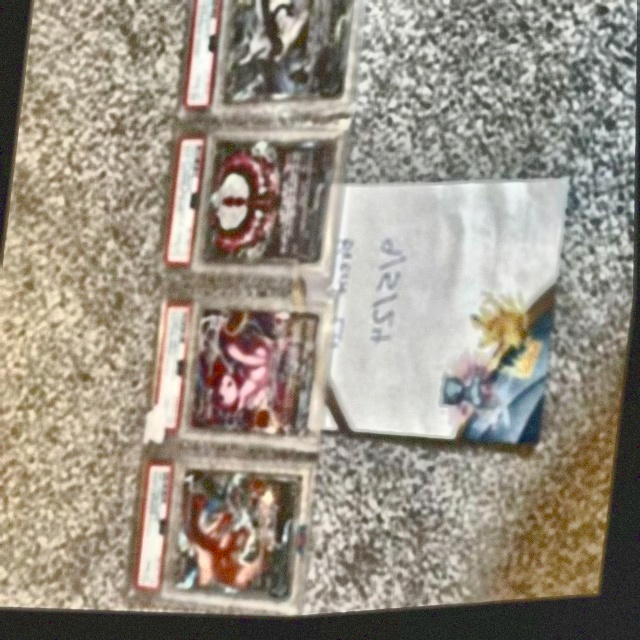card: (172, 472, 309, 610), (188, 310, 325, 445), (199, 142, 337, 269), (220, 0, 353, 105)
